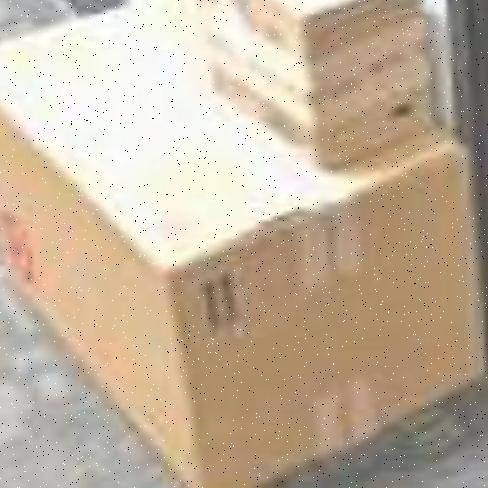Other: (0, 22, 487, 476), (194, 0, 445, 145)
